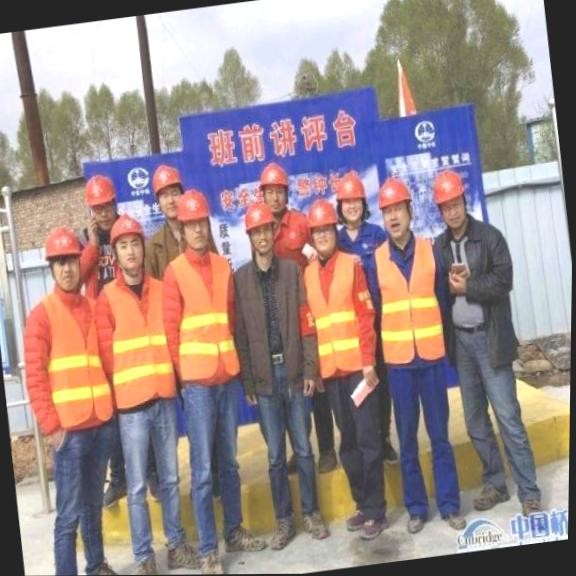no_safety_vest: (435, 227, 524, 372), (235, 260, 313, 401)
safety_vest: (373, 241, 448, 369), (44, 298, 113, 431), (102, 279, 175, 403), (170, 257, 242, 381), (300, 262, 366, 374)
